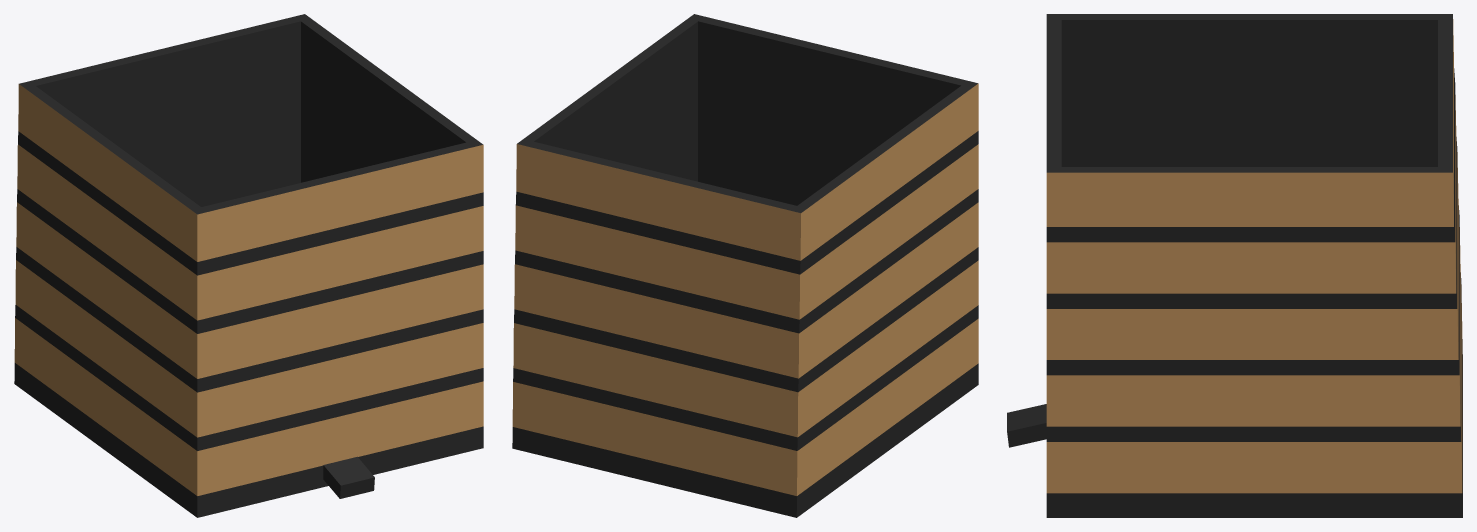
Rendered from furniture_box-cabinet-open.fbx.
3 views of the same model, side by side, from view 1: azimuth 30°, elevation 25°; view 2: azimuth 150°, elevation 25°; view 3: azimuth 270°, elevation 25° (orthographic). The views are drawn at different scales.
Visible parts, largest first — view 1: furniture_box_cabinet_open; view 2: furniture_box_cabinet_open; view 3: furniture_box_cabinet_open.
Part boxes in pixels (x1=…): furniture_box_cabinet_open: x1=14, y1=14, x2=483, y2=517; furniture_box_cabinet_open: x1=512, y1=14, x2=978, y2=517; furniture_box_cabinet_open: x1=1007, y1=14, x2=1462, y2=517.
Size of the model in its own units: 165 by 167 by 200.
